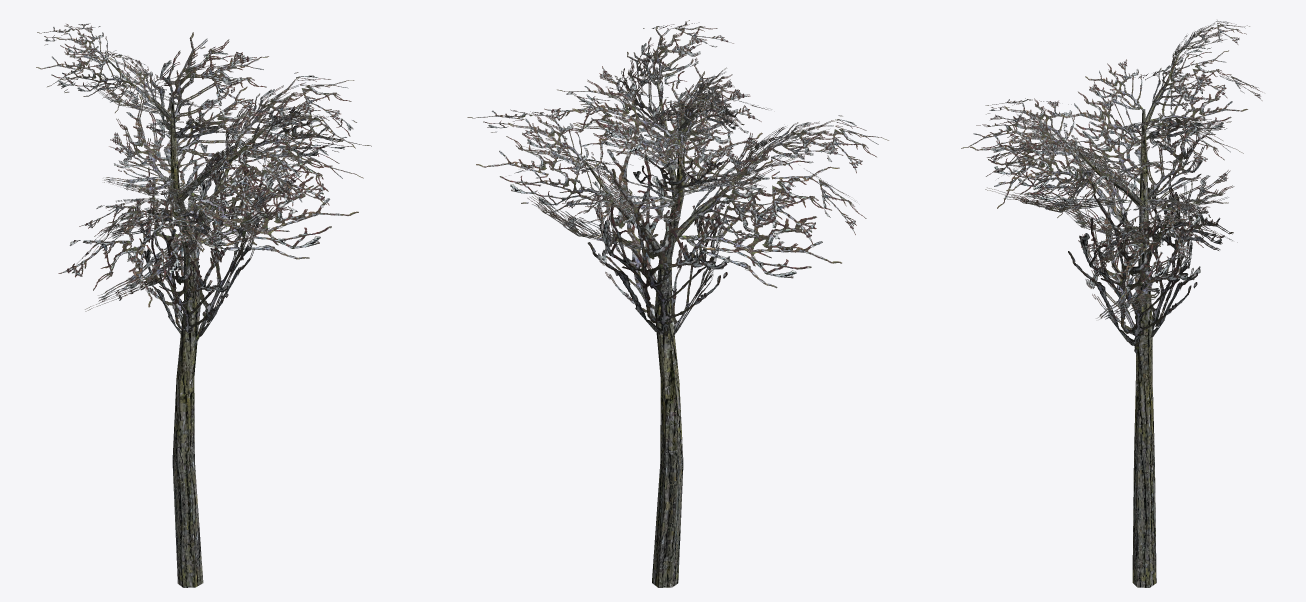
File: flora_tree_temperate_winter.glb
3 views of the same model, side by side, from view 1: azimuth 30°, elevation 25°; view 2: azimuth 150°, elevation 25°; view 3: azimuth 270°, elevation 25° (orthographic). The views are drawn at different scales.
Visible parts, largest first — view 1: flora_tree_temperate_winter_part0; view 2: flora_tree_temperate_winter_part0; view 3: flora_tree_temperate_winter_part0.
Boxes of the visible parts, box(x1,y1,x2,y2) form: flora_tree_temperate_winter_part0: box(36, 23, 371, 587); flora_tree_temperate_winter_part0: box(467, 20, 888, 587); flora_tree_temperate_winter_part0: box(961, 20, 1262, 587).
Size of the model in its own units: 15.64 by 20.44 by 12.52.
Materials: 1 (1 with a texture image).
